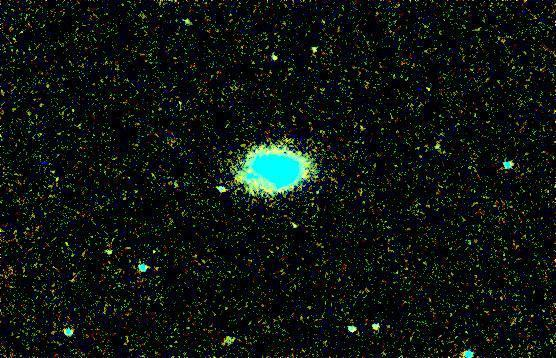star: (235, 162, 265, 192)
